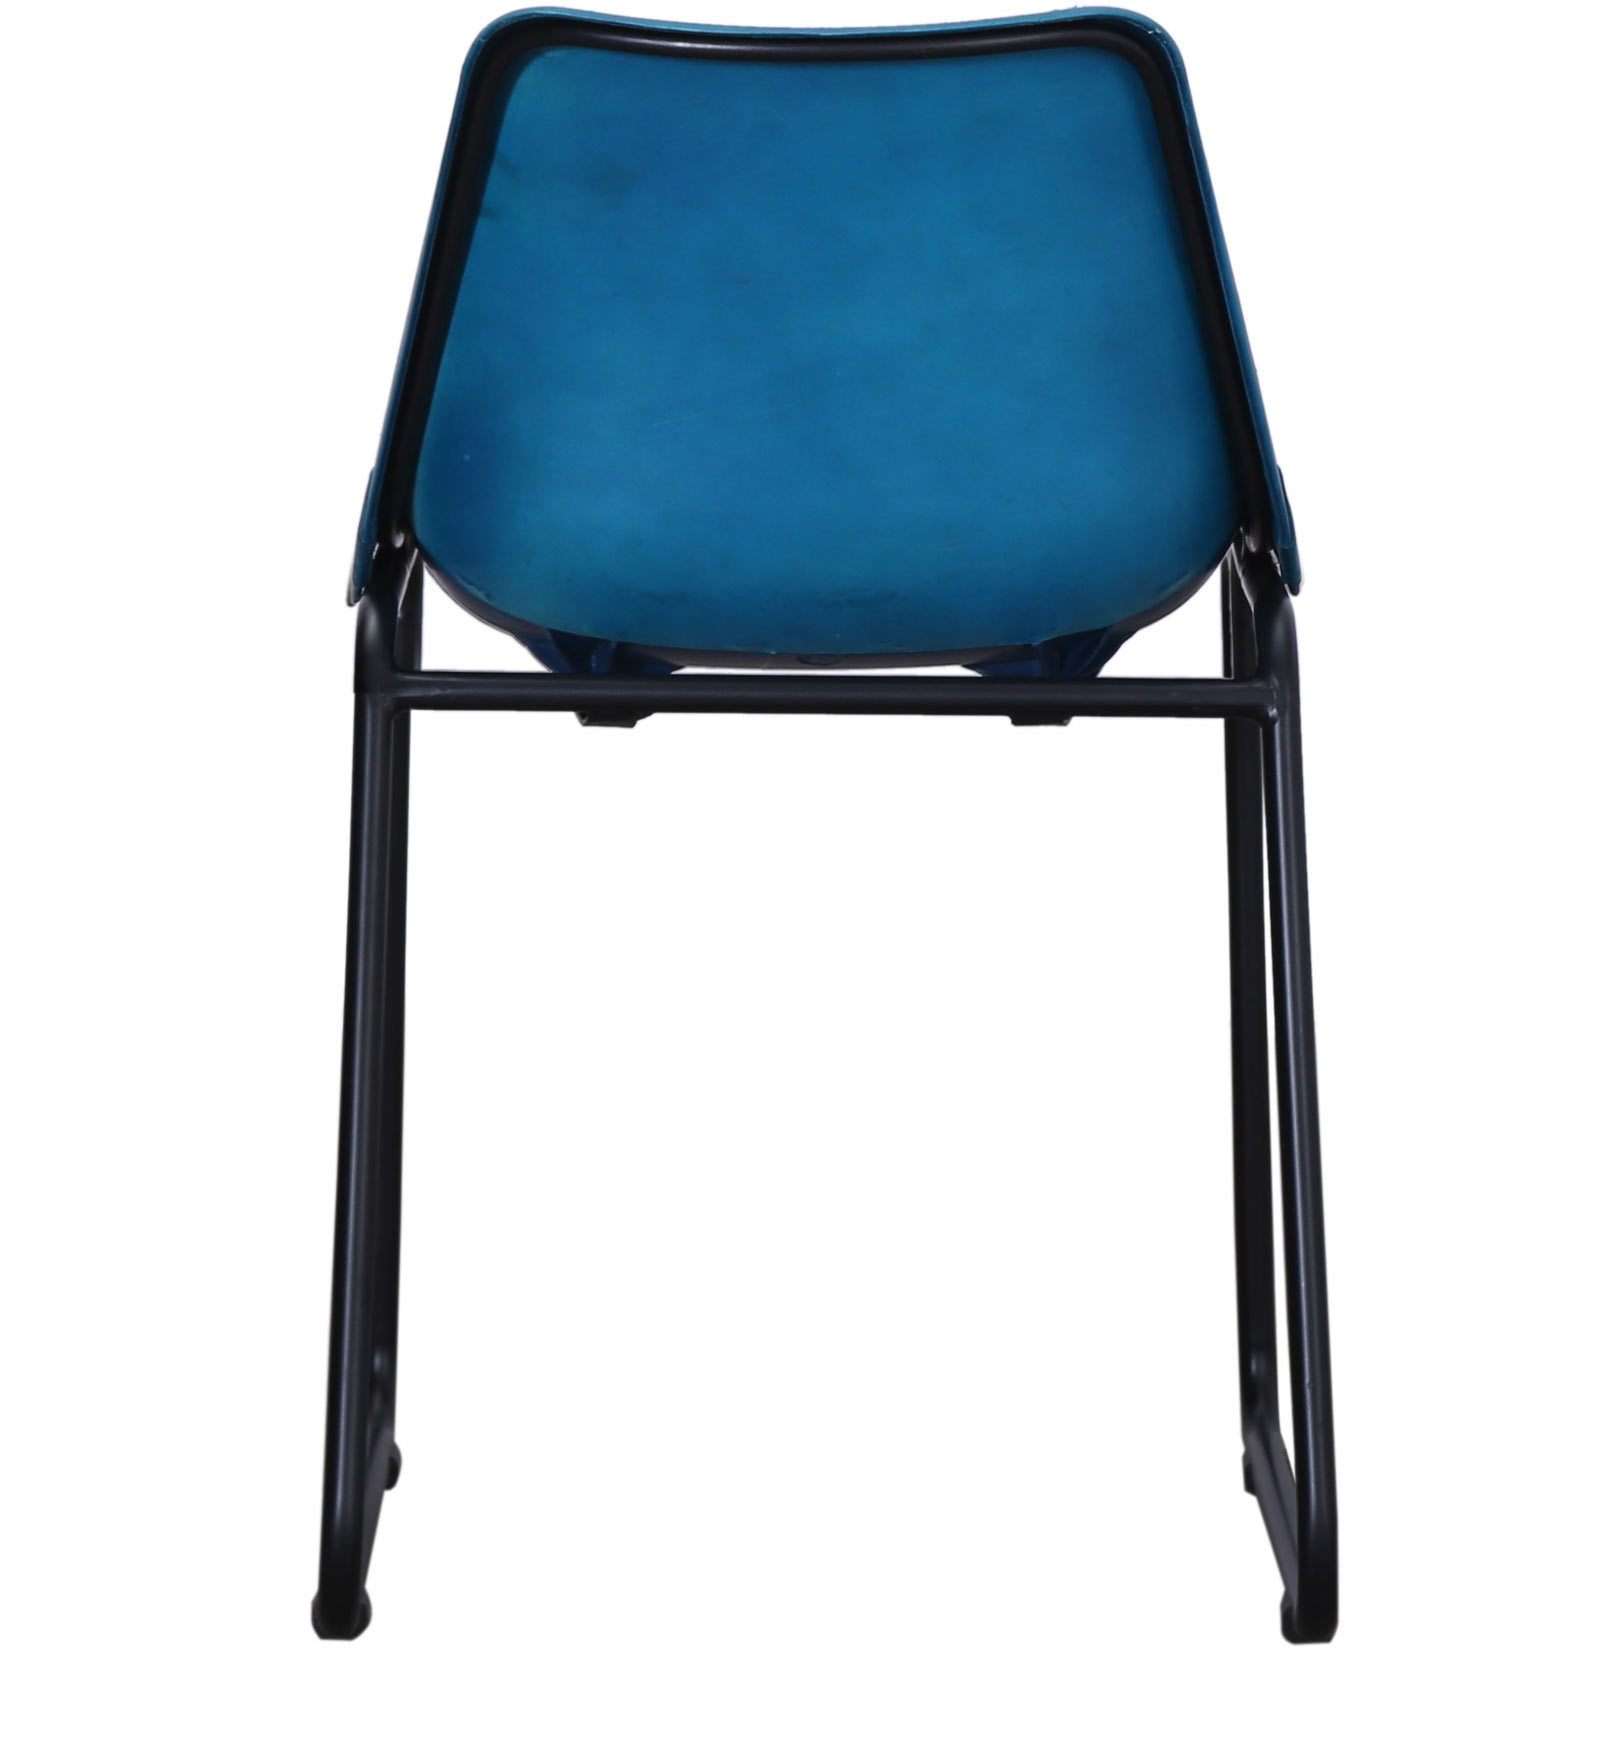Medina Ink Blue Color Leather Accent Chair by Bohemiana: (320, 8, 1356, 1645)
